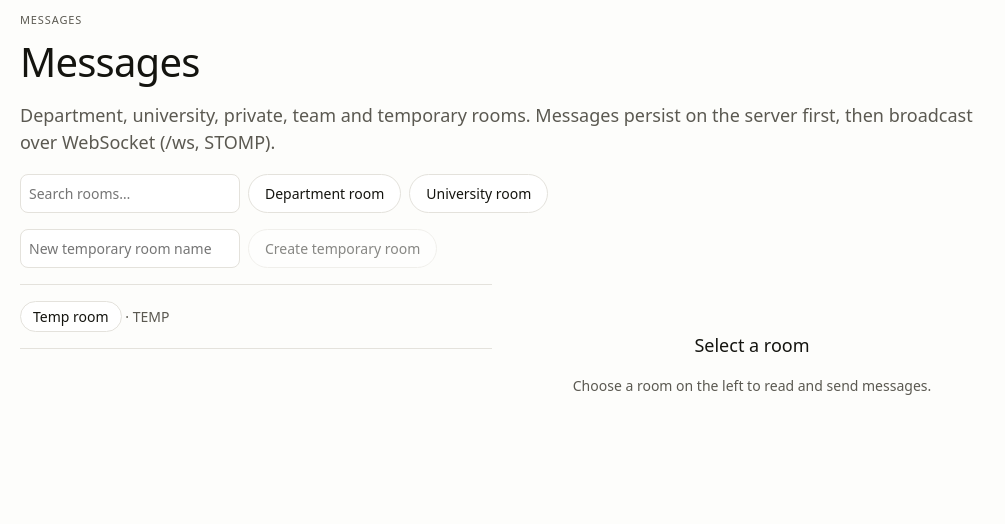
it: Fix 3 — member Remove only for the room admin, never the creator › a non-admin member sees no Remove button at all
Step 1. Click the button "Temp room" → {"x": 71, "y": 316}, box top-left (20, 300), bottom-right (122, 332)
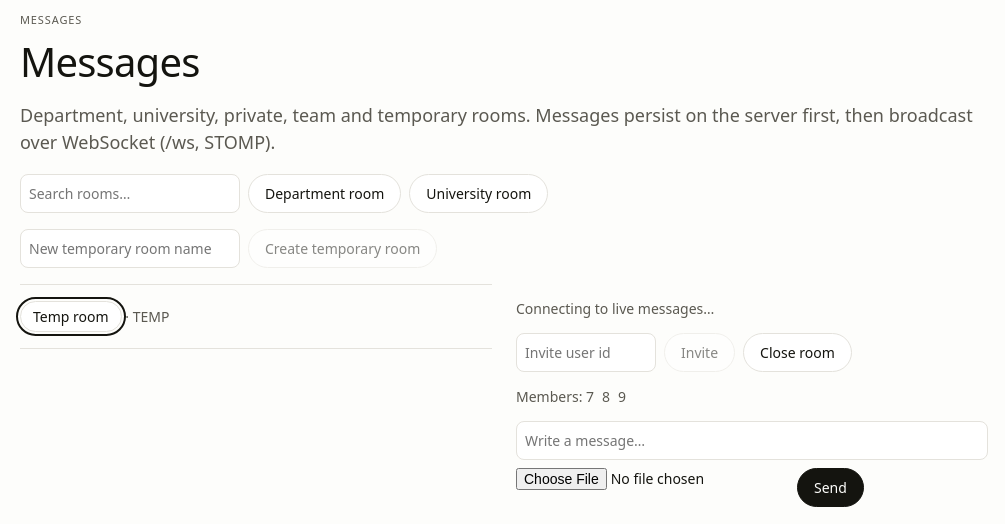
Check: the text "Members: 789" is shown, box top-left (516, 386), bottom-right (626, 406)
